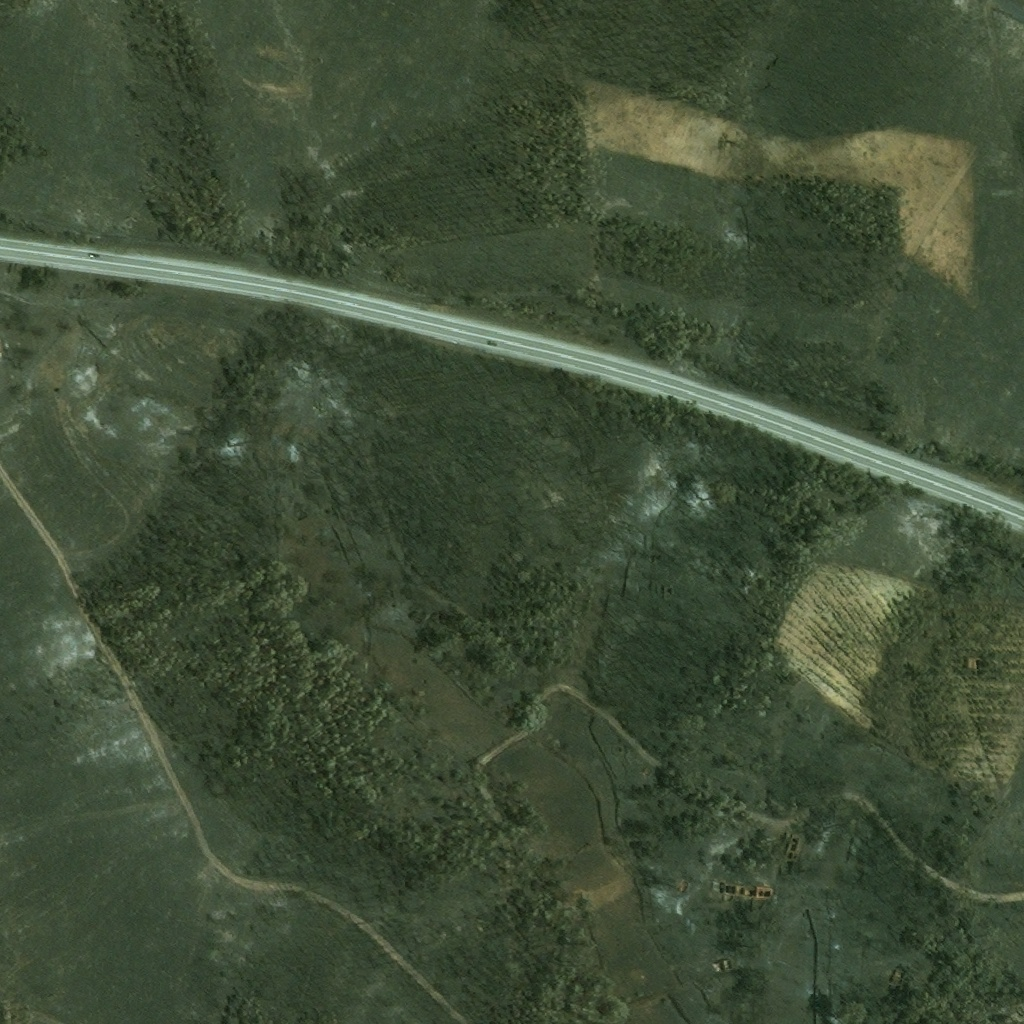2 major-damage: (722, 881, 739, 897), (756, 885, 774, 898)
